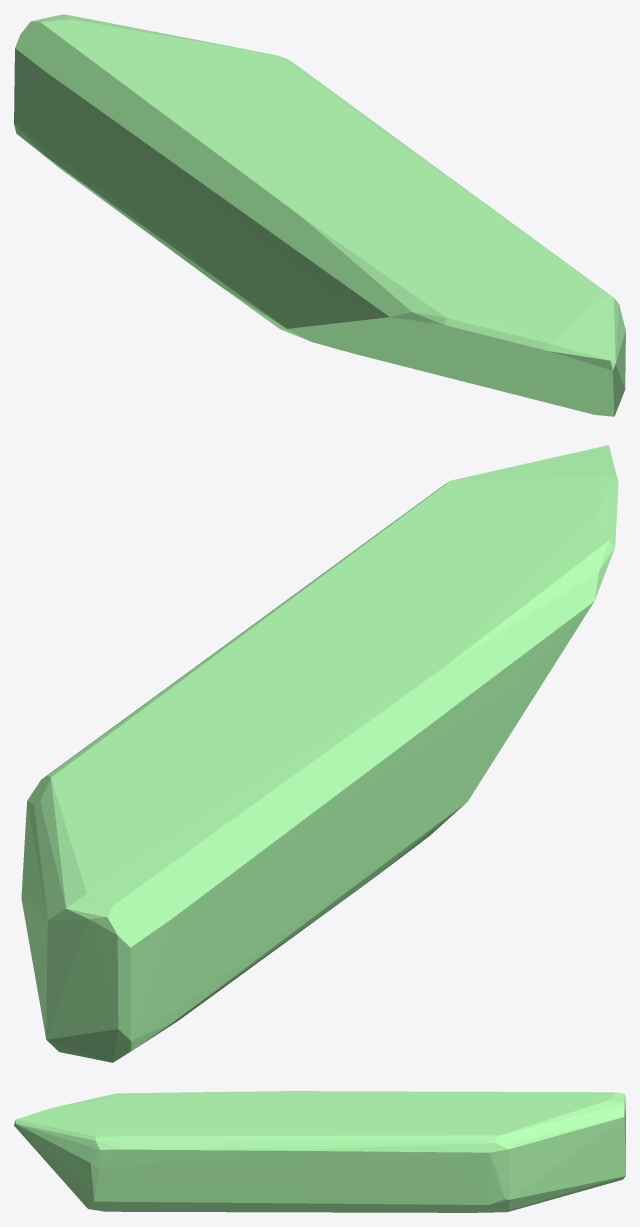
File: palle_scrotali_buone_Lp2_respondable_PSM2_coll_3.dae
3 renders of one model, top to bottom at view 1: azimuth 30°, elevation 25°; view 2: azimuth 150°, elevation 25°; view 3: azimuth 270°, elevation 25°, orthographic. The views are drawn at different scales.
Visible parts, largest first — view 1: Node_000002334E242980; view 2: Node_000002334E242980; view 3: Node_000002334E242980.
Part boxes in pixels (x1=…): Node_000002334E242980: x1=14, y1=14, x2=625, y2=416; Node_000002334E242980: x1=21, y1=445, x2=618, y2=1062; Node_000002334E242980: x1=14, y1=1091, x2=625, y2=1212.
Size of the model in its own units: 0.0654 by 0.0425 by 0.3059.
